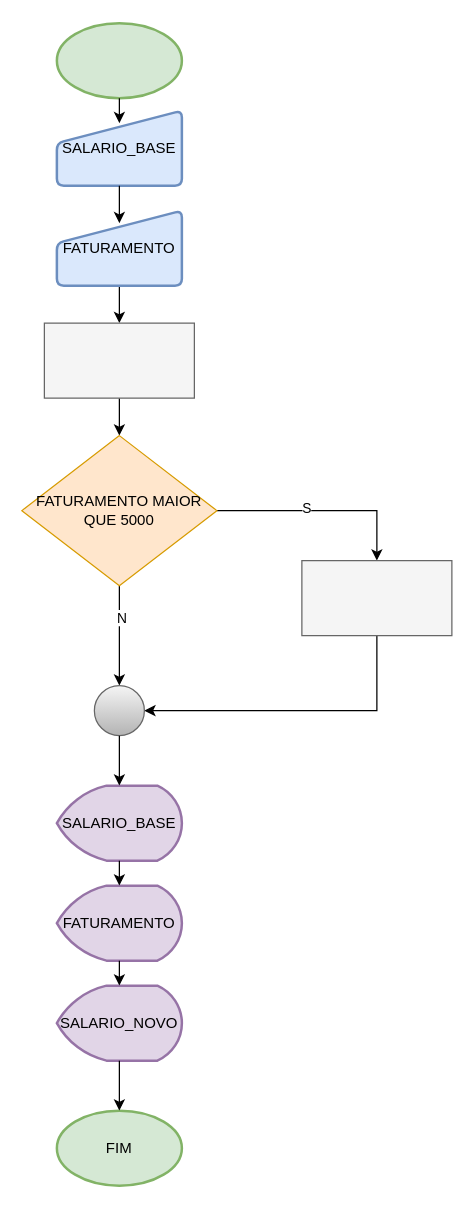
Image size: 474x1208. Some labels were removed from this diagram. Each missing label, with the centre of its shape:
"INICIO" belongs at [118,60].
"SALARIO_NOVO = 0" belongs at [118,360].
"SALARIO_NOVO = SALARIO + 300" belongs at [376,597].
